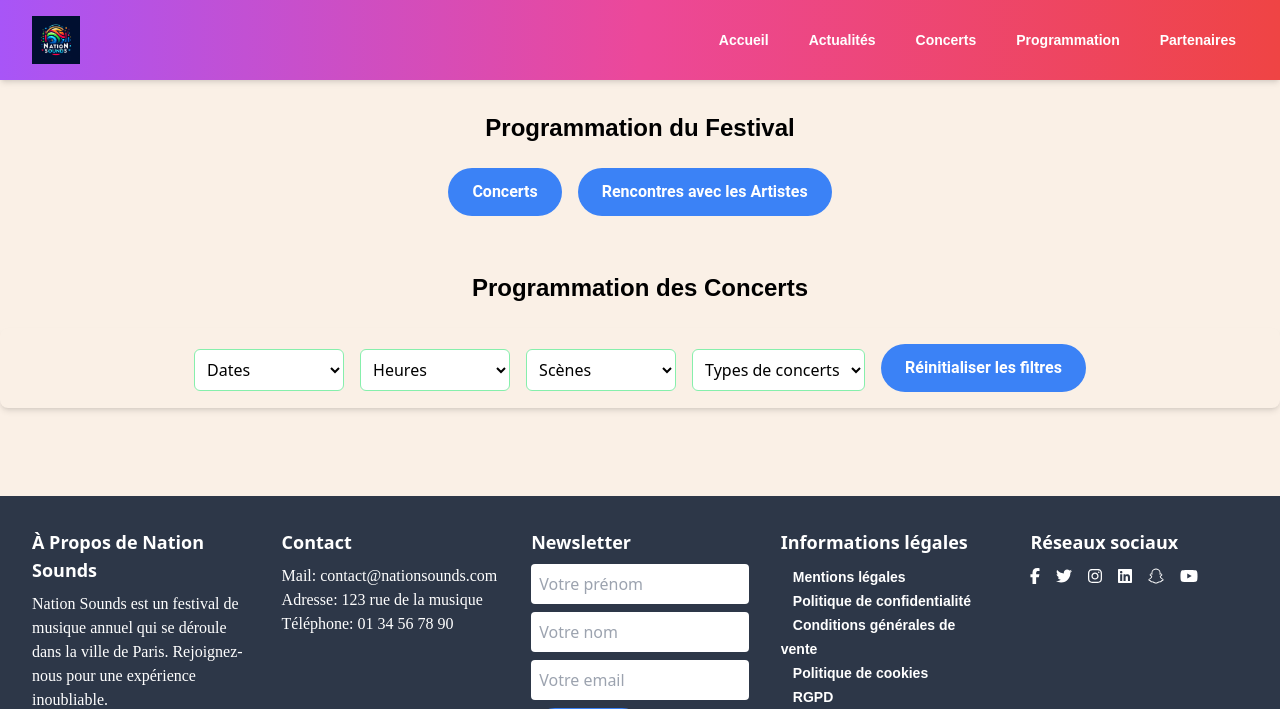
Scenario: Page Programmation - Tests Complets › Doit basculer entre la section Concerts et Rencontres avec les Artistes
Check: the heading "Programmation des Concerts" is shown, box 472,274 -> 808,301
Cliquer sur le bouton "Rencontres avec les Artistes"
Click the button "Rencontres avec les Artistes".
click(705, 192)  # box 578,168 -> 832,216
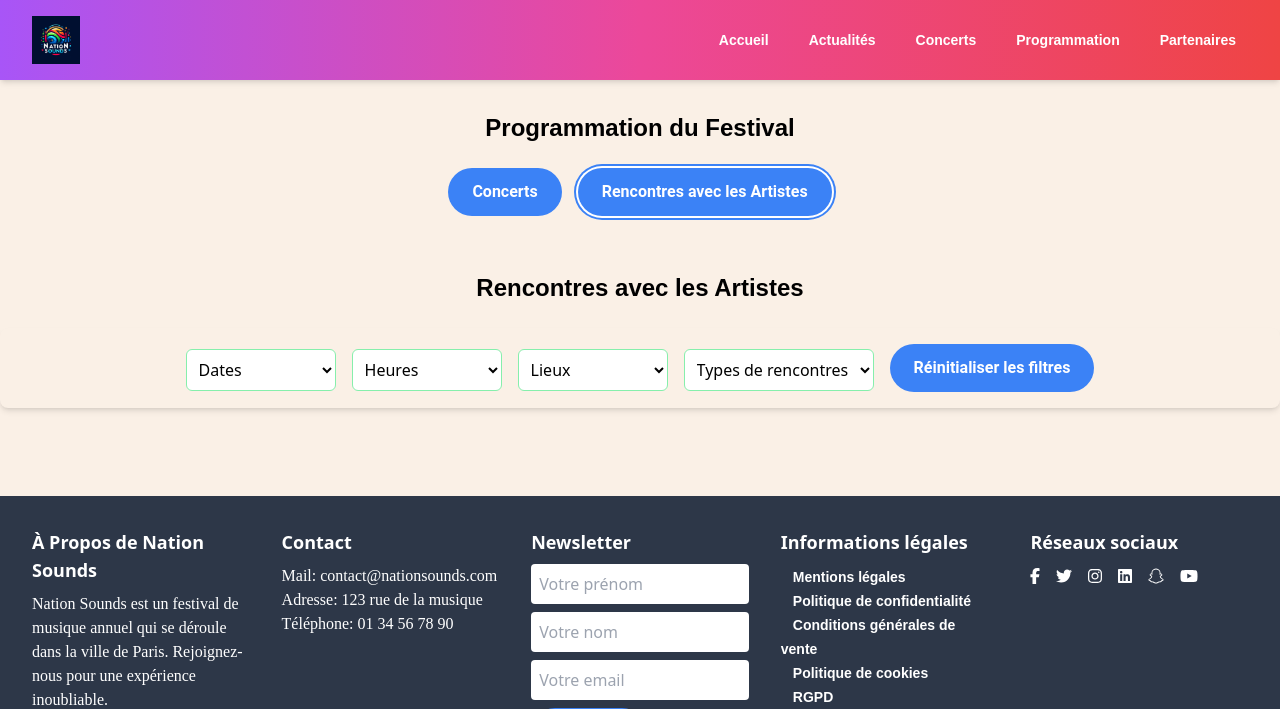
Check: the heading "Rencontres avec les Artistes" is shown, box 476,274 -> 804,301
Optionnel : Revenir sur "Concerts" pour s'assurer que le basculement fonctionne dans les deux sens
Click the button "Concerts".
click(505, 192)  # box 448,168 -> 561,216
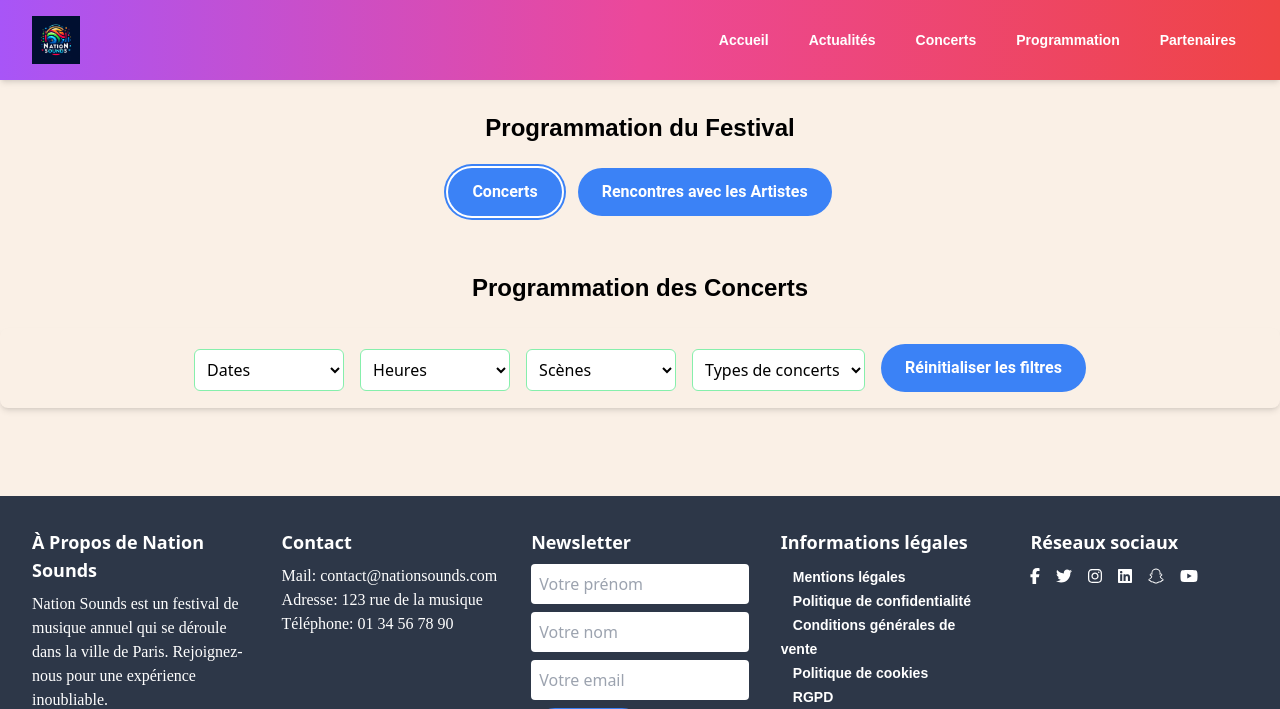
Check: the heading "Programmation des Concerts" is shown, box 472,274 -> 808,301
